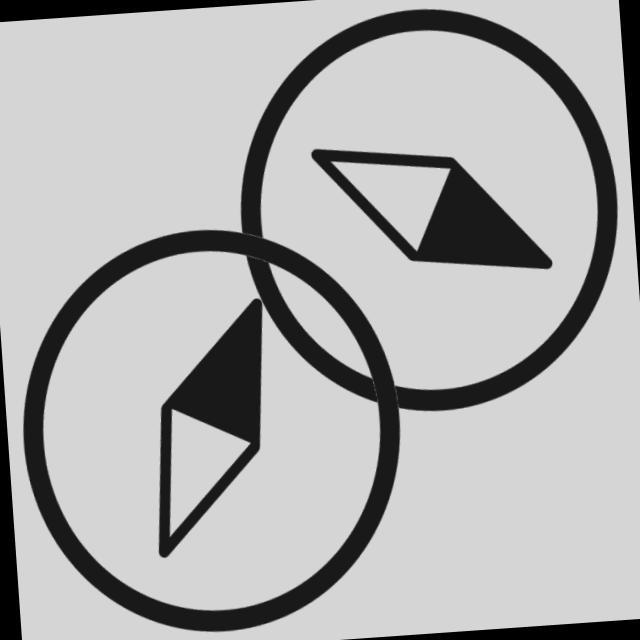compass: (214, 1, 635, 437), (5, 212, 423, 640)
